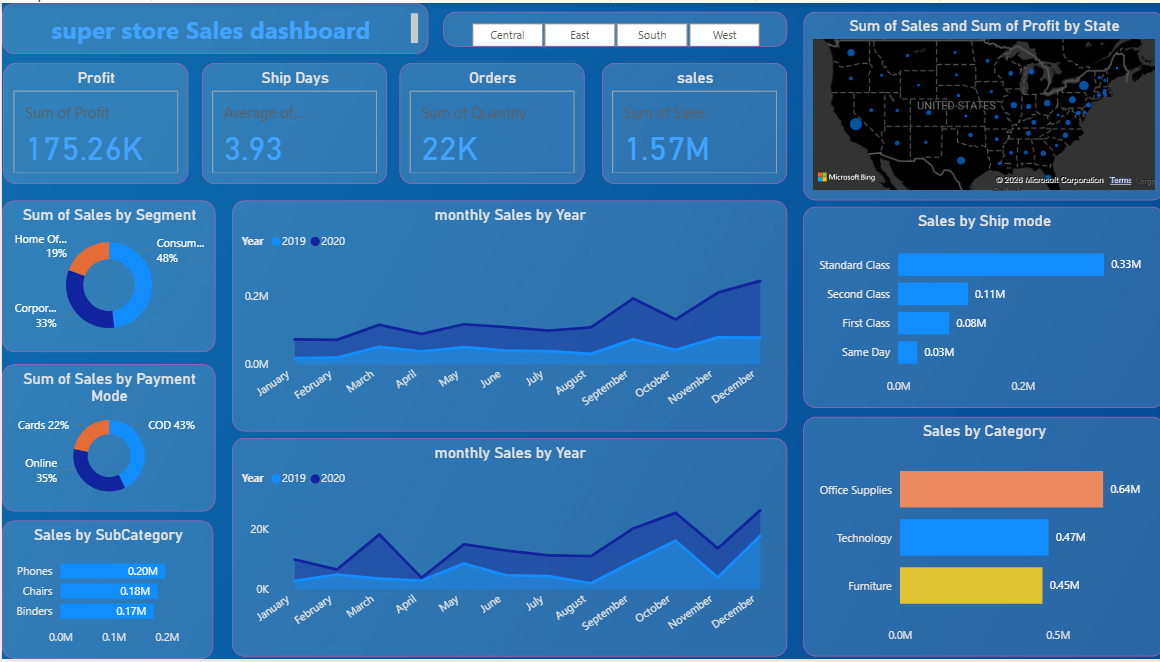

The page's visual inventory and layout, read from the dashboard file:
{"tool":"powerbi","page":{"name":"Page 1","canvas":[1280,720],"ordinal":0},"visuals":[{"type":"clusteredBarChart","title":" Sales by Category","fields":{"Category":["SuperStore_Sales_Dataset.Category"],"Y":["Sum(SuperStore_Sales_Dataset.Sales)"]},"box":[879.6,454.2,396.6,263.5],"z":0},{"type":"clusteredBarChart","title":" Sales by SubCategory","fields":{"Y":["Sum(SuperStore_Sales_Dataset.Sales)"],"Category":["SuperStore_Sales_Dataset.Sub-Category"]},"box":[0,568.1,231.9,152.3],"z":1},{"type":"clusteredBarChart","title":" Sales by Ship mode","fields":{"Y":["Sum(SuperStore_Sales_Dataset.Sales)"],"Category":["SuperStore_Sales_Dataset.Ship Mode"]},"box":[879.6,223.7,396.6,220.9],"z":2},{"type":"stackedAreaChart","title":"monthly Sales by Year","fields":{"Y":["Sum(SuperStore_Sales_Dataset.Sales)"],"Category":["SuperStore_Sales_Dataset.Order Date.Variation.Date Hierarchy.Month","SuperStore_Sales_Dataset.Order Date.Variation.Date Hierarchy.Day"],"Series":["SuperStore_Sales_Dataset.Order Date.Variation.Date Hierarchy.Year"]},"box":[252.5,216.8,609.3,253.9],"z":3},{"type":"stackedAreaChart","title":"monthly Sales by Year","fields":{"Category":["SuperStore_Sales_Dataset.Order Date.Variation.Date Hierarchy.Month","SuperStore_Sales_Dataset.Order Date.Variation.Date Hierarchy.Day"],"Series":["SuperStore_Sales_Dataset.Order Date.Variation.Date Hierarchy.Year"],"Y":["Sum(SuperStore_Sales_Dataset.Profit)"]},"box":[252.5,477.5,609.3,240.1],"z":4},{"type":"map","fields":{"Category":["SuperStore_Sales_Dataset.State"],"Size":["Sum(SuperStore_Sales_Dataset.Sales)"]},"box":[879.6,9.6,396.6,207.2],"z":5},{"type":"donutChart","fields":{"Category":["SuperStore_Sales_Dataset.Segment"],"Y":["Sum(SuperStore_Sales_Dataset.Sales)"]},"box":[0,216.8,234.6,166],"z":6},{"type":"donutChart","fields":{"Category":["SuperStore_Sales_Dataset.Payment Mode"],"Y":["Sum(SuperStore_Sales_Dataset.Sales)"]},"box":[0,396.6,234.6,161.9],"z":7},{"type":"slicer","fields":{"Values":["SuperStore_Sales_Dataset.Region"]},"box":[484.4,9.6,377.4,38.4],"z":8},{"type":"textbox","box":[0,0,467.9,56.3],"z":9},{"type":"cardVisual","title":"sales","fields":{"Data":["Sum(SuperStore_Sales_Dataset.Sales)"]},"box":[658.7,65.9,203.1,133.1],"z":10},{"type":"cardVisual","title":"Orders","fields":{"Data":["Sum(SuperStore_Sales_Dataset.Quantity)"]},"box":[436.4,65.9,203.1,133.1],"z":11},{"type":"cardVisual","title":"Ship Days","fields":{"Data":["Avg(SuperStore_Sales_Dataset.AvgDelivery)"]},"box":[219.6,65.9,203.1,133.1],"z":12},{"type":"cardVisual","title":"Profit","fields":{"Data":["Sum(SuperStore_Sales_Dataset.Profit)"]},"box":[1.4,65.9,203.1,133.1],"z":13}]}

Visuals, with their boxes in screenshot pixels (x1, y1, x2, y2), scaled from the page's 1280x720 canvas onto the 1160x662 screenshot:
" Sales by Category" clusteredBarChart: box(797, 418, 1157, 660)
" Sales by SubCategory" clusteredBarChart: box(0, 522, 210, 661)
" Sales by Ship mode" clusteredBarChart: box(797, 206, 1157, 409)
"monthly Sales by Year" stackedAreaChart: box(229, 199, 781, 433)
"monthly Sales by Year" stackedAreaChart: box(229, 439, 781, 660)
map - SuperStore_Sales_Dataset.State x Sum(SuperStore_Sales_Dataset.Sales): box(797, 9, 1157, 199)
donutChart - SuperStore_Sales_Dataset.Segment x Sum(SuperStore_Sales_Dataset.Sales): box(0, 199, 213, 352)
donutChart - SuperStore_Sales_Dataset.Payment Mode x Sum(SuperStore_Sales_Dataset.Sales): box(0, 365, 213, 514)
slicer - SuperStore_Sales_Dataset.Region: box(439, 9, 781, 44)
textbox: box(0, 0, 424, 52)
"sales" cardVisual: box(597, 61, 781, 183)
"Orders" cardVisual: box(395, 61, 580, 183)
"Ship Days" cardVisual: box(199, 61, 383, 183)
"Profit" cardVisual: box(1, 61, 185, 183)
